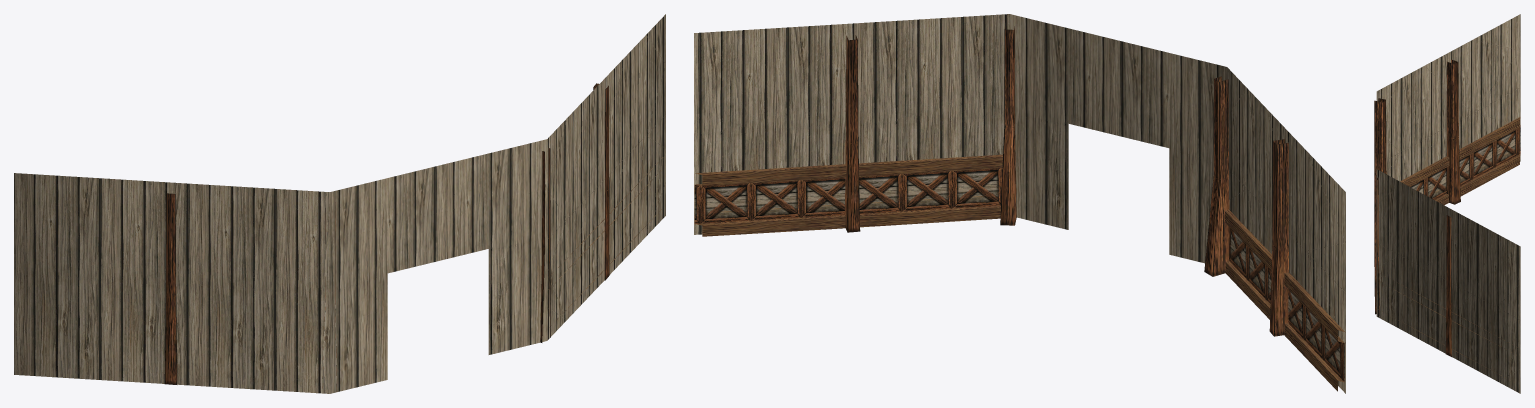
Rendered from LAKETOWN_WAREHOUSE2_PS_WH2_SIDEWALL4884__GX.fbx.
The picture shows the model from 3 angles, left to right: view 1: azimuth 30°, elevation 25°; view 2: azimuth 150°, elevation 25°; view 3: azimuth 270°, elevation 25°; orthographic projection. The views are drawn at different scales.
Visible parts, largest first — view 1: LAKETOWN_WAREHOUSE2_PS_WH2_SIDEWALL4884__GX; view 2: LAKETOWN_WAREHOUSE2_PS_WH2_SIDEWALL4884__GX; view 3: LAKETOWN_WAREHOUSE2_PS_WH2_SIDEWALL4884__GX.
Part boxes in pixels (x1,y1,x2,y2): LAKETOWN_WAREHOUSE2_PS_WH2_SIDEWALL4884__GX: [14, 14, 665, 393]; LAKETOWN_WAREHOUSE2_PS_WH2_SIDEWALL4884__GX: [694, 14, 1345, 393]; LAKETOWN_WAREHOUSE2_PS_WH2_SIDEWALL4884__GX: [1374, 14, 1520, 393].
Bounding box in the file's own units: 176348 × 52347 × 46948.
Materials: 4 (4 with a texture image).
